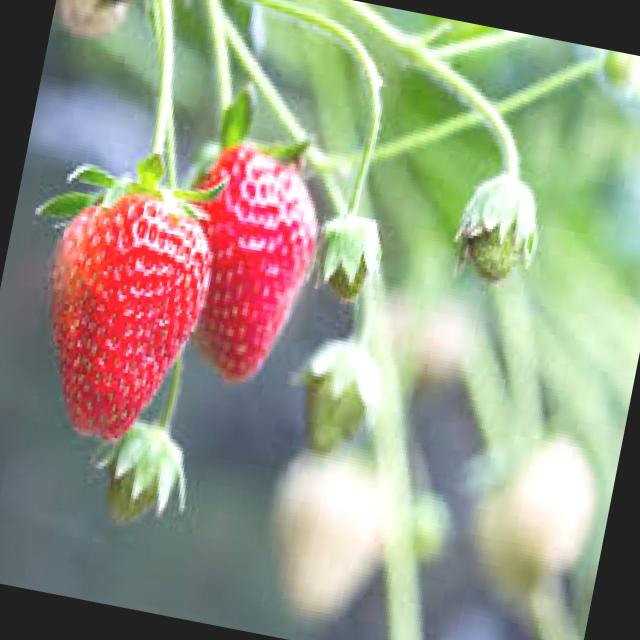tofu: (2, 145, 218, 453), (146, 138, 336, 398)
